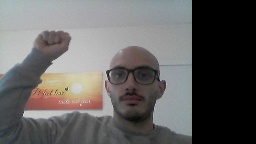Pugno: (30, 27, 72, 61)
